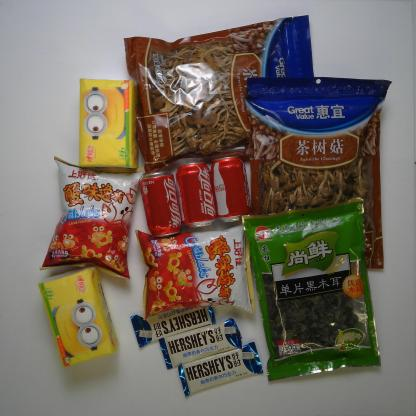Chocolate: (175, 344, 265, 394), (154, 318, 242, 367), (134, 303, 220, 342)
Dried Food: (116, 13, 335, 163), (242, 73, 391, 276), (234, 215, 381, 379)
Drink: (207, 157, 261, 226), (177, 150, 220, 231), (140, 169, 184, 236)
Puffed Food: (37, 150, 147, 282), (140, 223, 259, 315)
Tissue: (36, 266, 120, 368), (78, 77, 142, 172)
